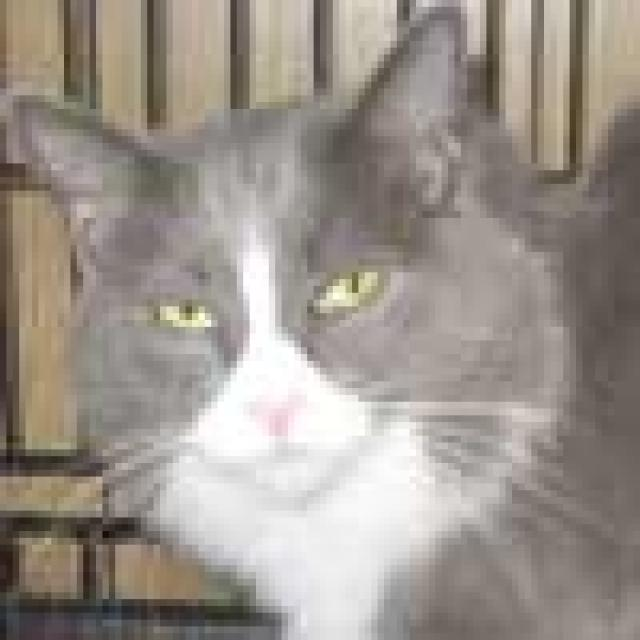Cats: (6, 0, 634, 633)
